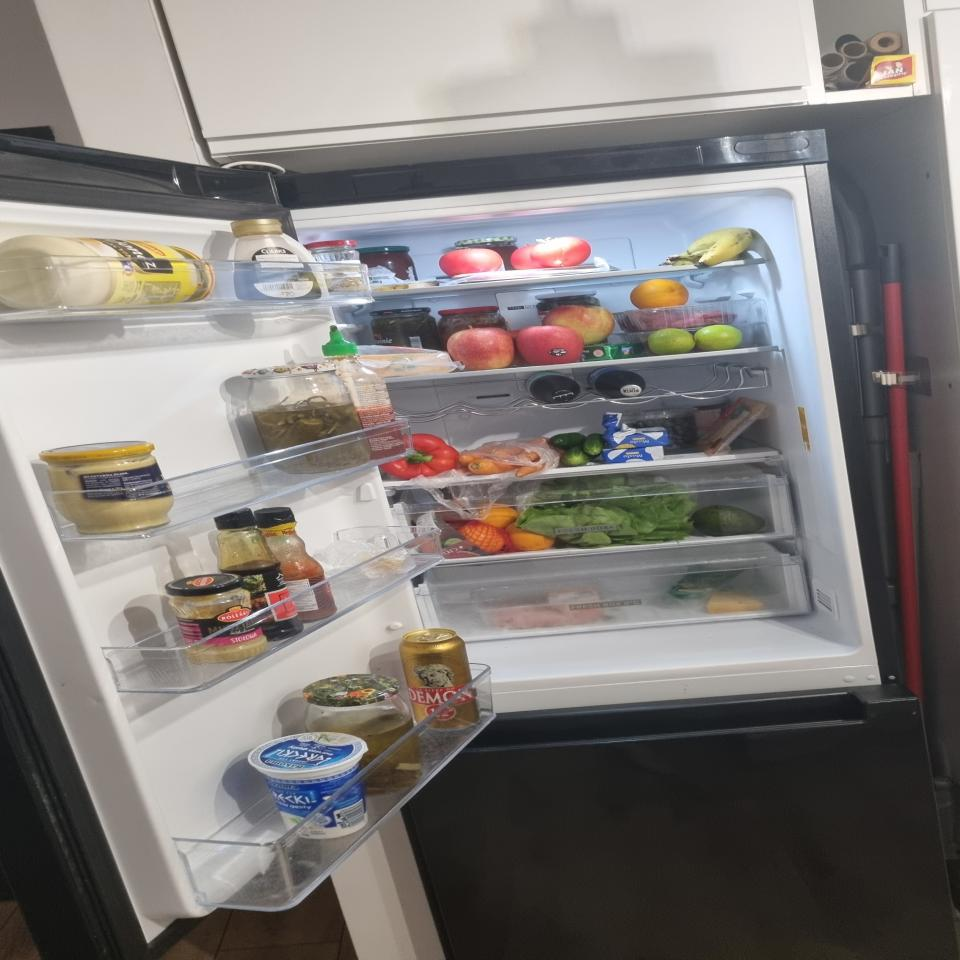Aguacate: (691, 505, 766, 537)
Carne pollo: (490, 589, 605, 630)
Lechuga/Endivia: (516, 474, 696, 549)
Mantequilla: (602, 412, 670, 449), (580, 342, 644, 361), (602, 446, 664, 464)
Manzana: (447, 326, 514, 370), (543, 306, 614, 344), (517, 326, 584, 366)
Pepino: (548, 432, 605, 466)
Plátano: (659, 228, 754, 270)
Queso: (696, 397, 771, 458), (355, 353, 452, 377), (705, 590, 764, 614)
Tomate: (440, 246, 503, 276), (532, 236, 591, 267), (511, 245, 541, 269)
Yogur: (248, 732, 369, 838)
Zanahoria: (460, 438, 548, 477)
